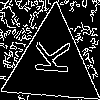K: (27, 39, 70, 76)
